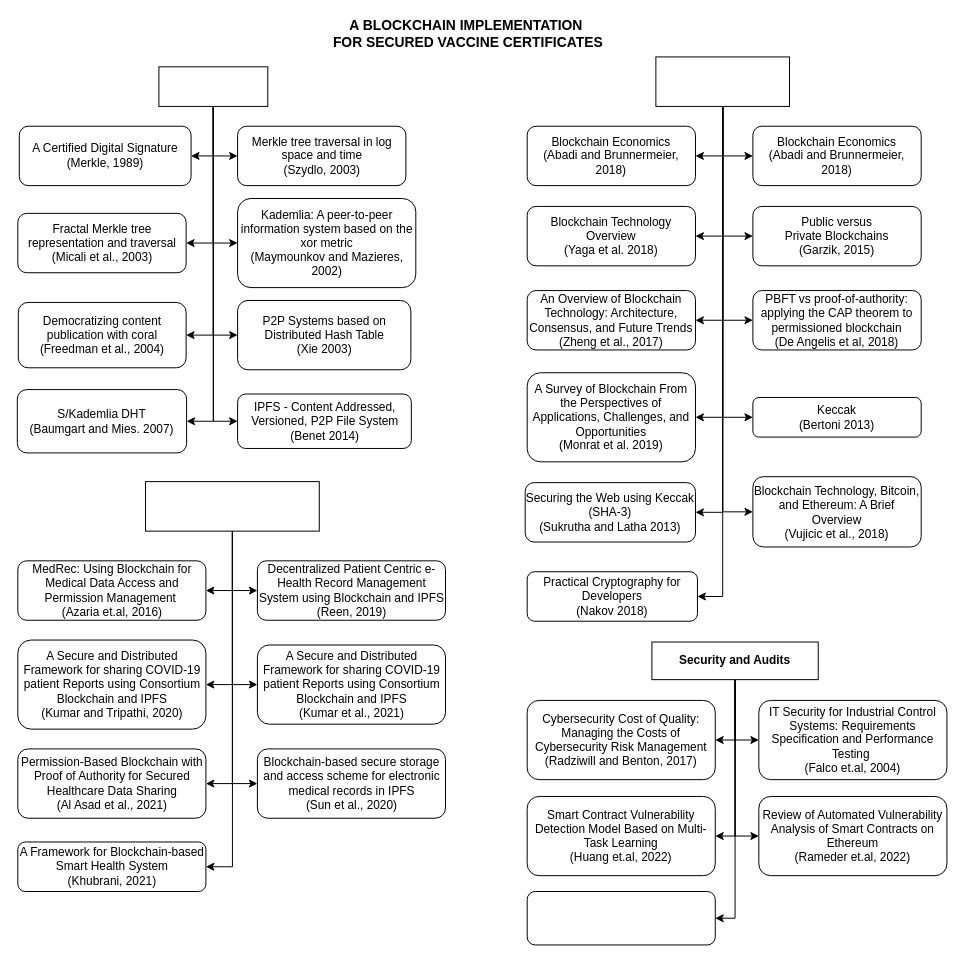
Some shapes in this 964 by 962 pixel diagram are drawn without their labels. Here are the shapes that lost their labels. From the top down, the box of each, then its label:
(158, 66, 268, 106): Merkle DAG and IPFS Technology
(655, 56, 790, 106): Keccak, Blockchain and Proof-of-Authority
(145, 481, 319, 531): Electronic Medical Record Integrated with Blockchain
(526, 891, 715, 945): NIST: Building a Solid Foundation (Bojanova and Voas, 2014)
